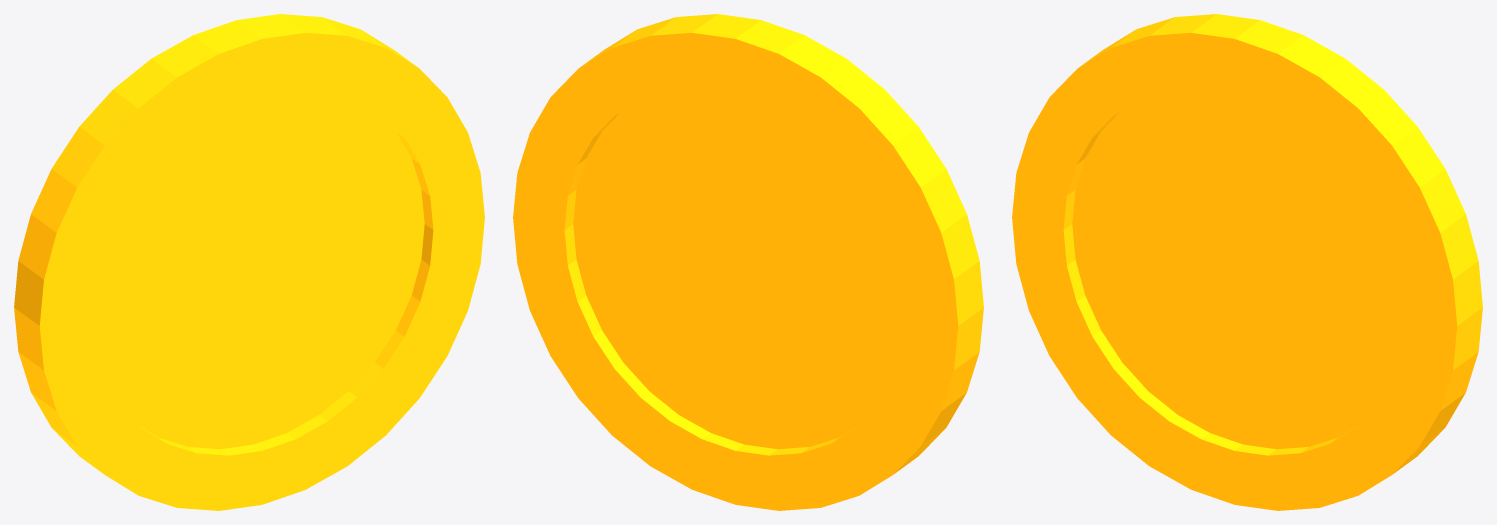
Rendered from Coin.glb.
3 renders of one model, left to right at view 1: azimuth 30°, elevation 25°; view 2: azimuth 150°, elevation 25°; view 3: azimuth 330°, elevation 25°, orthographic.
Visible parts, largest first — view 1: Cylinder017; view 2: Cylinder017; view 3: Cylinder017.
Part boxes in pixels (x1,y1,x2,y2): Cylinder017: (14, 14, 484, 510); Cylinder017: (513, 14, 983, 510); Cylinder017: (1012, 14, 1482, 510).
Bounding box in the file's own units: 0.6426 × 0.6426 × 0.0643.
